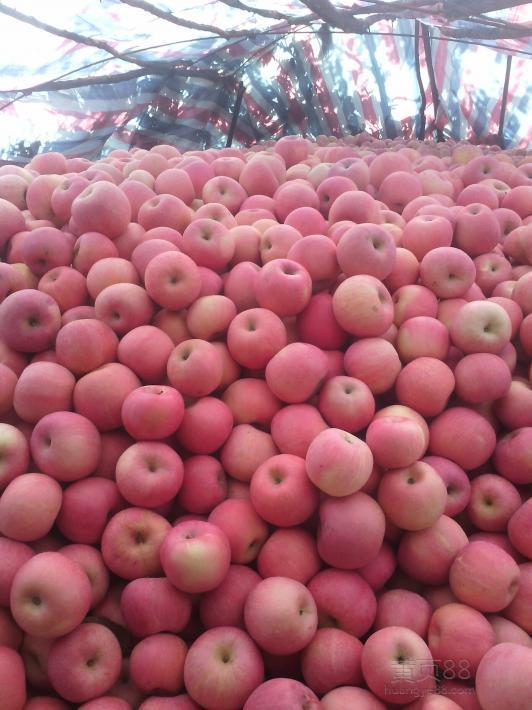apple: (7, 551, 92, 638), (182, 625, 265, 709), (157, 519, 240, 603), (242, 573, 318, 655), (360, 626, 435, 706), (46, 622, 120, 701), (450, 540, 523, 617), (32, 407, 102, 481), (252, 450, 321, 525), (304, 425, 373, 500), (318, 494, 387, 569), (103, 509, 168, 578), (113, 443, 183, 505), (382, 461, 445, 528), (1, 473, 63, 538), (1, 288, 61, 355), (394, 355, 455, 415), (333, 275, 394, 334), (343, 332, 404, 391), (129, 633, 188, 692), (266, 344, 324, 402), (230, 309, 288, 367), (301, 627, 359, 685), (123, 381, 181, 439), (166, 336, 224, 394), (73, 182, 132, 237), (18, 361, 72, 419), (176, 394, 230, 452), (451, 351, 510, 404), (453, 299, 512, 352), (368, 410, 424, 465), (465, 474, 519, 531), (55, 316, 117, 365), (146, 251, 200, 306), (340, 222, 394, 277), (257, 258, 311, 313), (419, 247, 474, 301), (320, 375, 372, 430), (95, 282, 149, 331), (183, 216, 232, 267), (453, 202, 502, 253), (18, 226, 68, 274)
